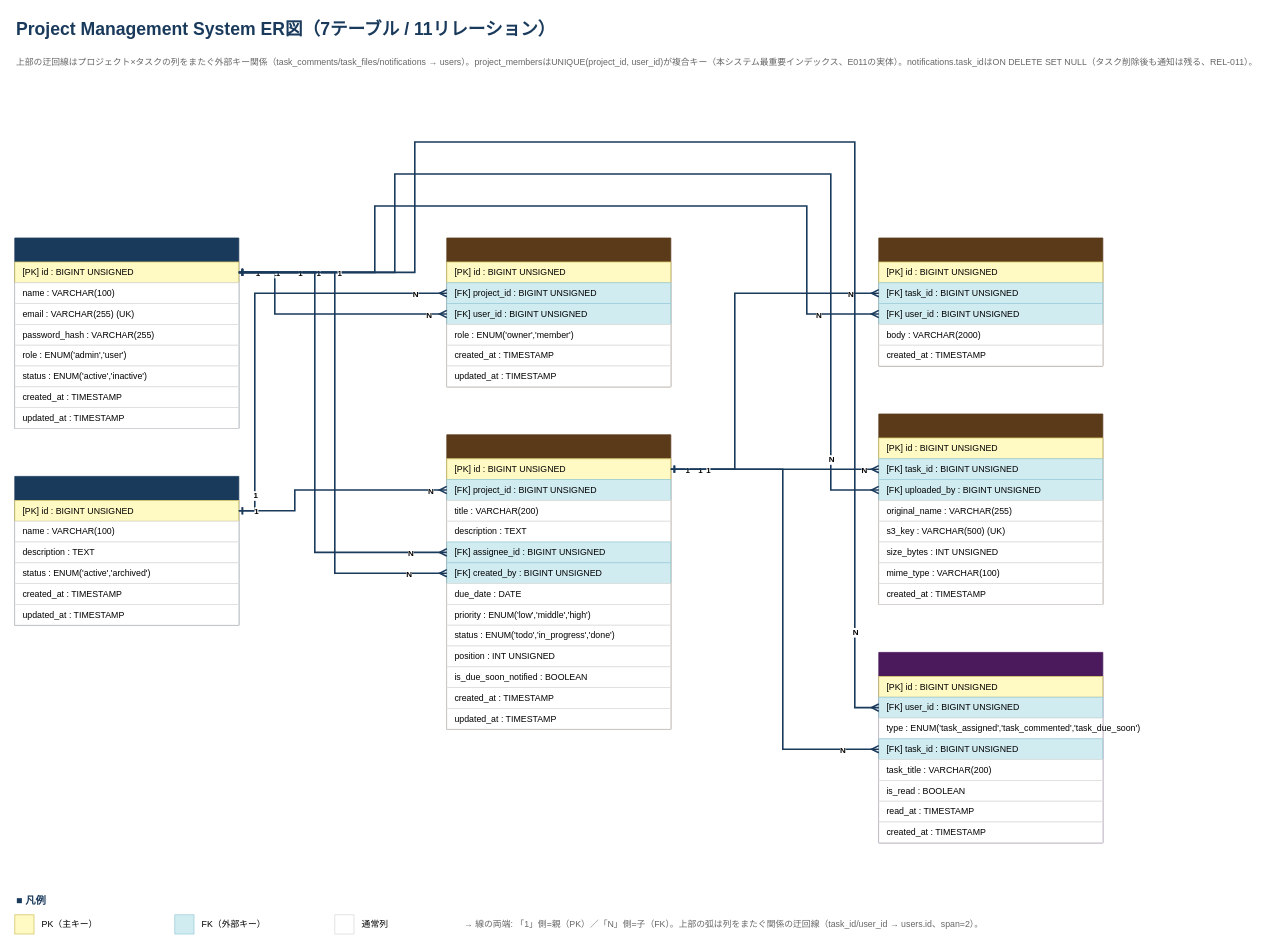
Image size: 1272x948. Some labels were removed from this diagram. Here are the shapes that lost their labels. From the top down, the box of each, then its label:
(446, 237, 671, 387): project_members（プロジェクトメンバー） （TBL-003 / トラン）
(878, 237, 1103, 366): task_comments（タスクコメント） （TBL-005 / トラン）
(14, 237, 239, 428): users（ユーザー） （TBL-001 / マスタ）
(878, 413, 1103, 604): task_files（タスク添付ファイル） （TBL-006 / トラン）
(14, 476, 239, 625): projects（プロジェクト） （TBL-002 / マスタ）
(446, 434, 671, 729): tasks（タスク） （TBL-004 / トラン）
(878, 652, 1103, 843): notifications（通知） （TBL-007 / サポート）
